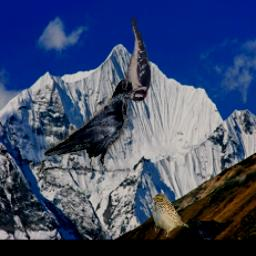Crow: (43, 79, 140, 172)
Sparrow: (150, 192, 188, 237)
Woodpecker: (122, 17, 152, 103)
